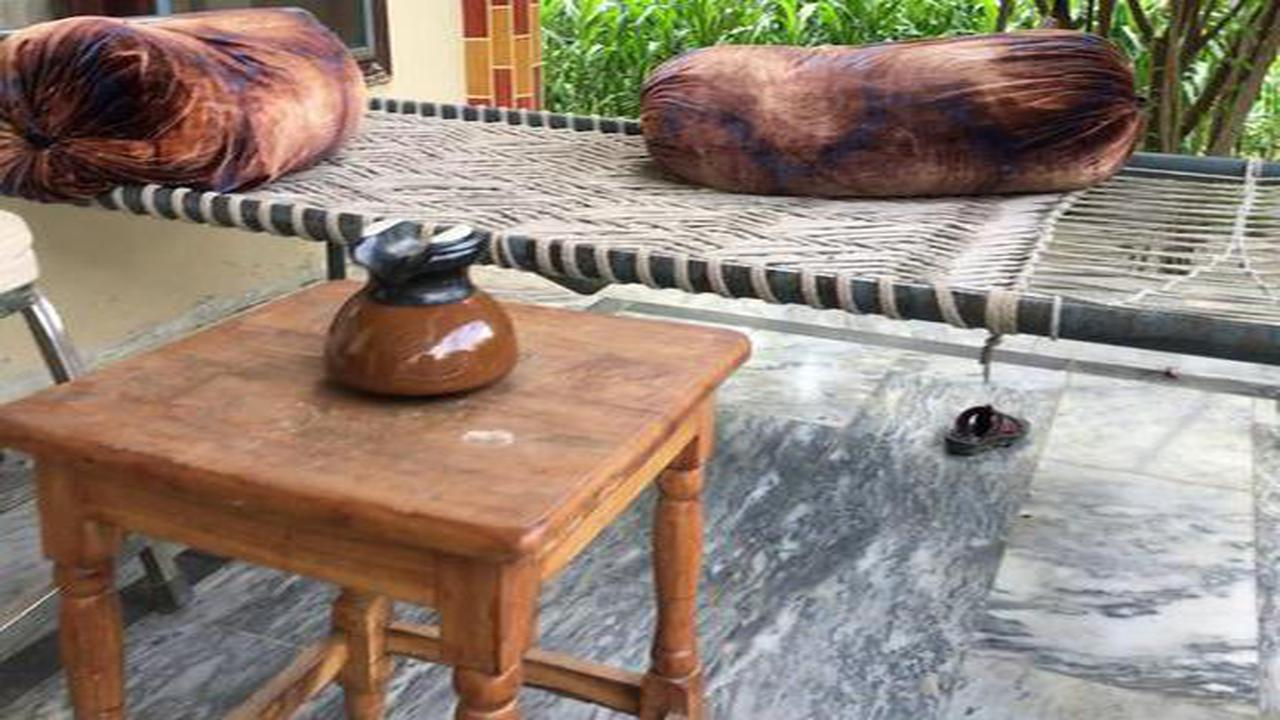insulator_pin: (314, 200, 539, 409)
